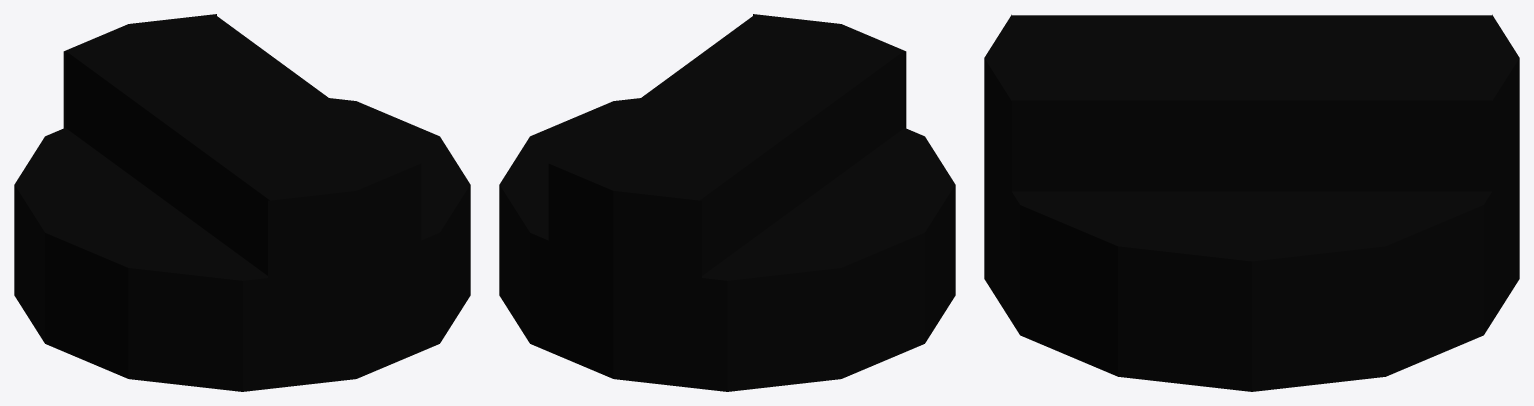
The model's file is knob.fbx.
3 views of the same model, side by side, from view 1: azimuth 30°, elevation 25°; view 2: azimuth 150°, elevation 25°; view 3: azimuth 270°, elevation 25° (orthographic). The views are drawn at different scales.
Visible parts, largest first — view 1: knob_large; view 2: knob_large; view 3: knob_large.
Part boxes in pixels (x1,y1,x2,y2): knob_large: [14, 14, 470, 391]; knob_large: [499, 14, 955, 391]; knob_large: [984, 14, 1519, 391].
Bounding box in the file's own units: 16.46 × 7.5 × 16.46.
